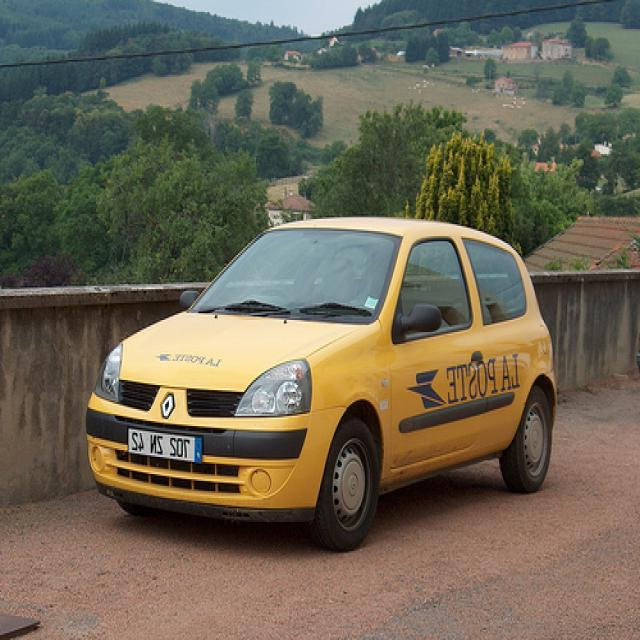Car: (72, 188, 564, 562)
